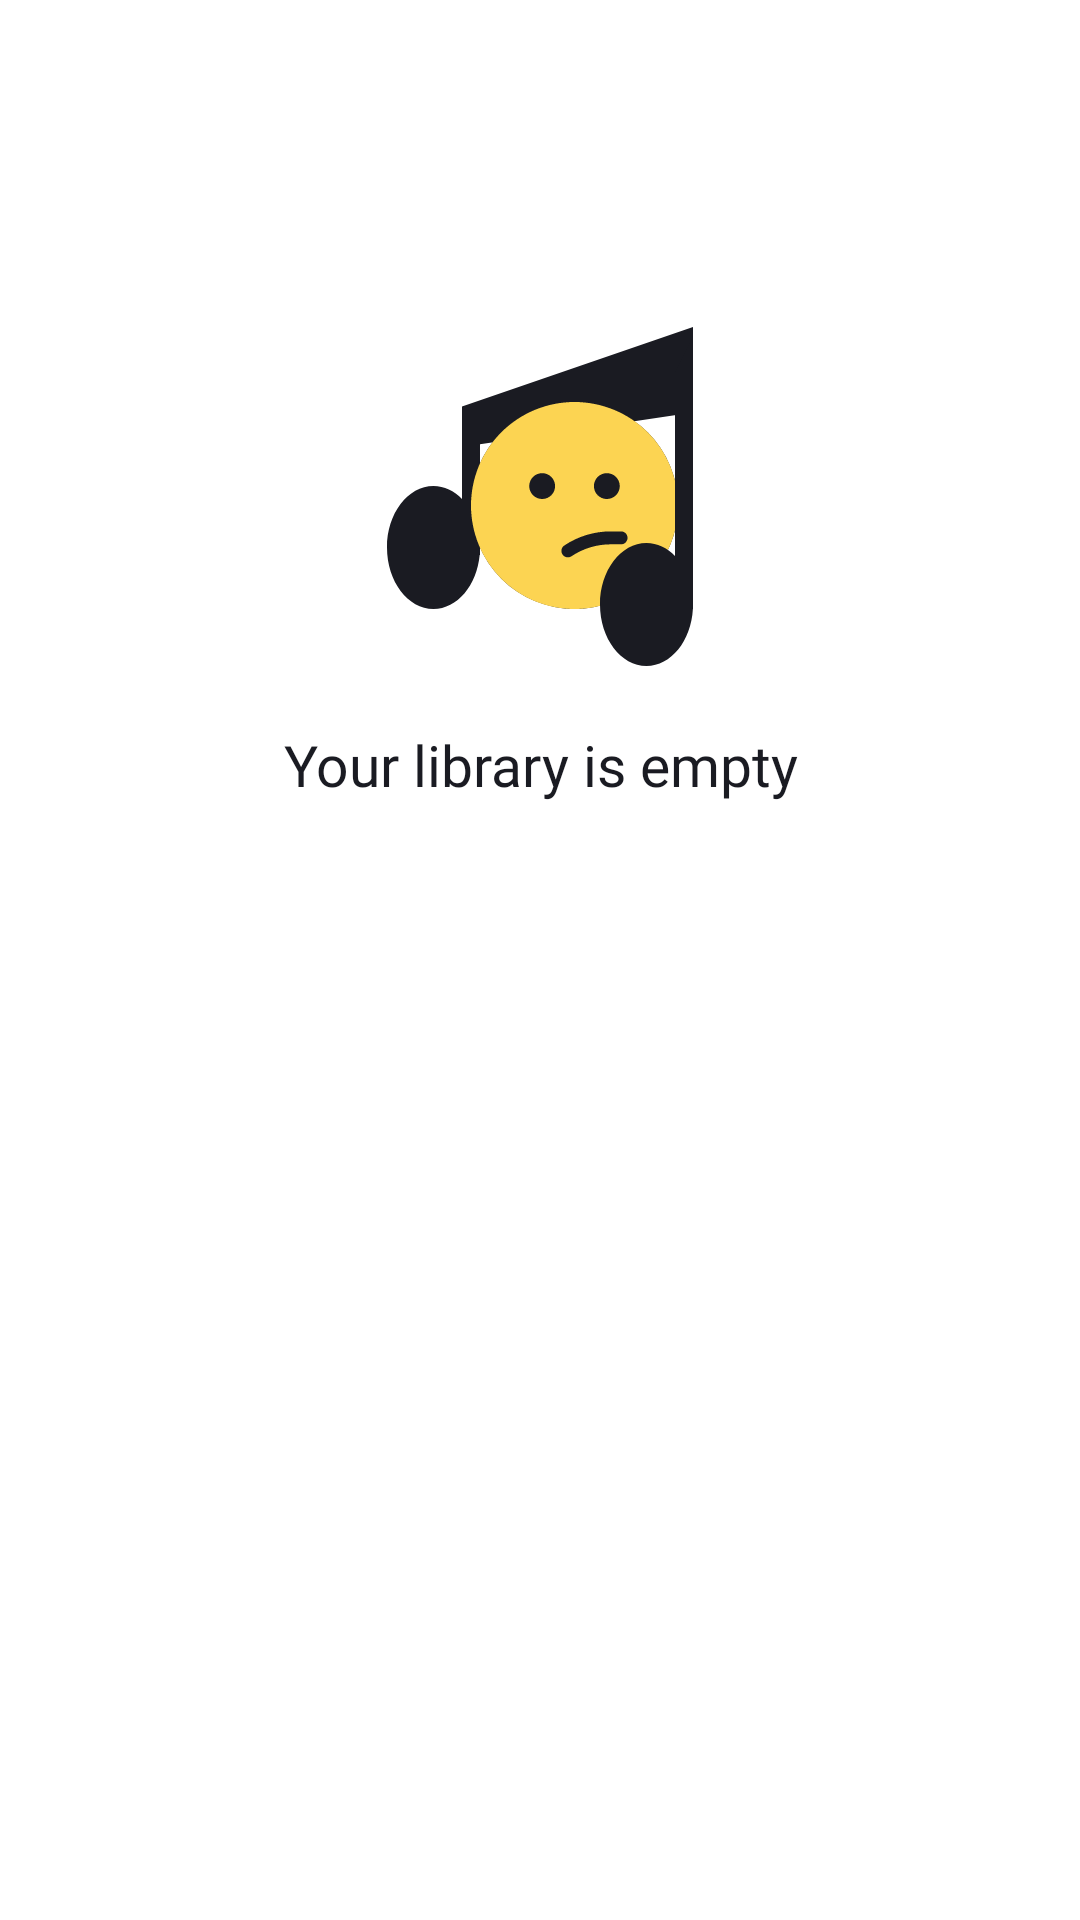

Icons on this 1080x1920 Android screen, each with its box as (x1, y1, x2, y2):
nothing found: (387, 327, 693, 666)
